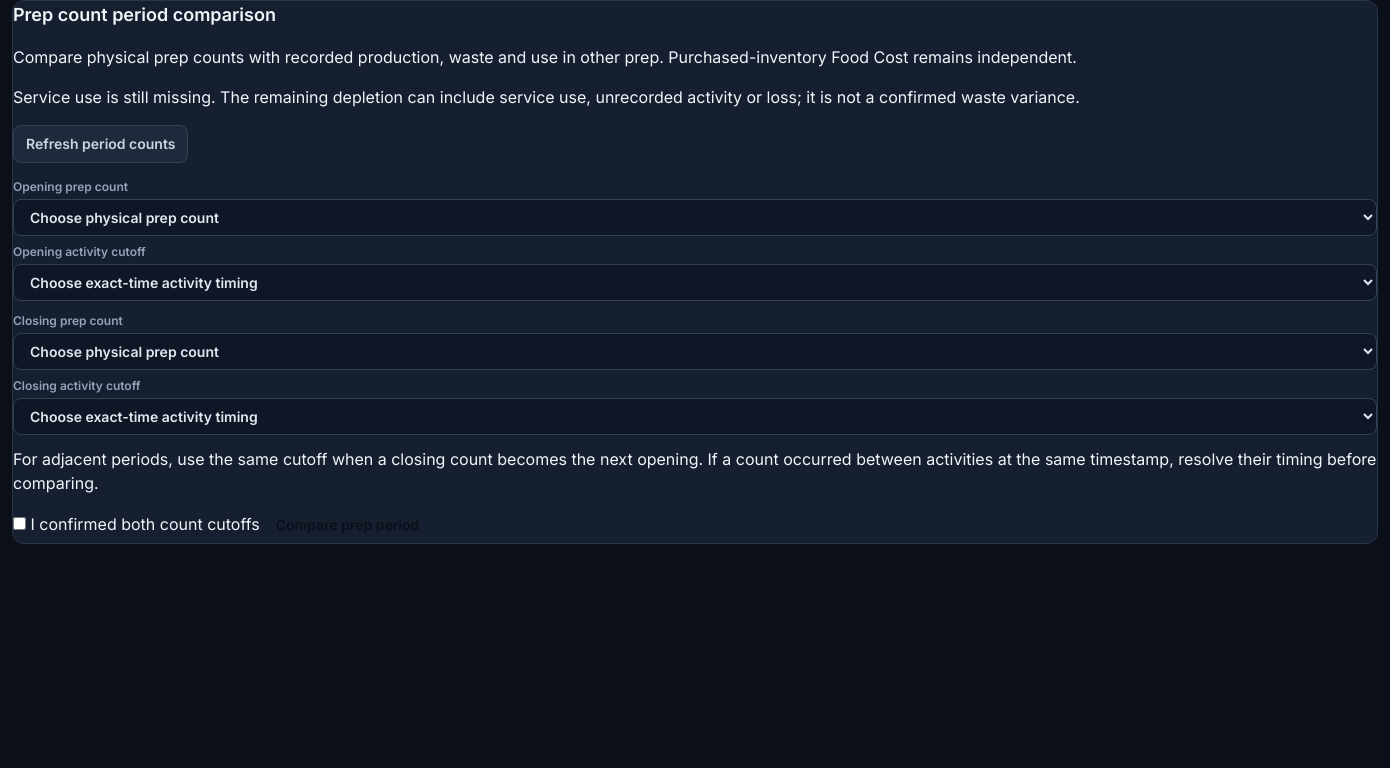
period cutoffs are blank and explicit timing confirmation is required
Expected: the dropdown named "Opening activity cutoff" shows "Choose exact-time activity timing", [13, 264, 1377, 301]
What coordinates should you click on to do the following:
click the button "Compare prep period"
I would click on:
 (348, 525)
Its box is [260, 507, 435, 543].
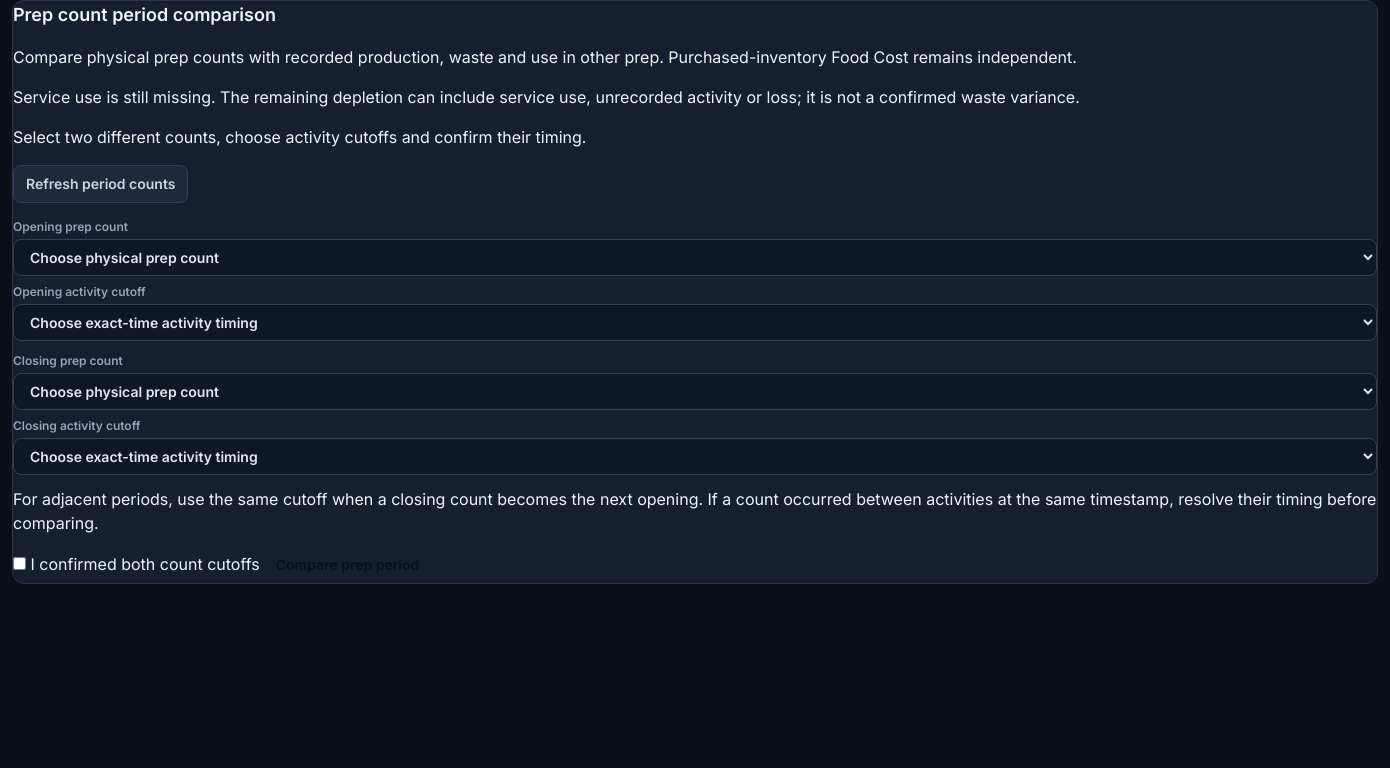
Now the text "confirm their timing" is shown, box [13, 127, 586, 147]
